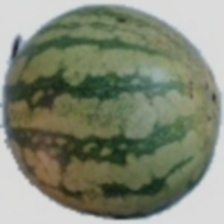watermelon: (37, 40, 182, 199)
